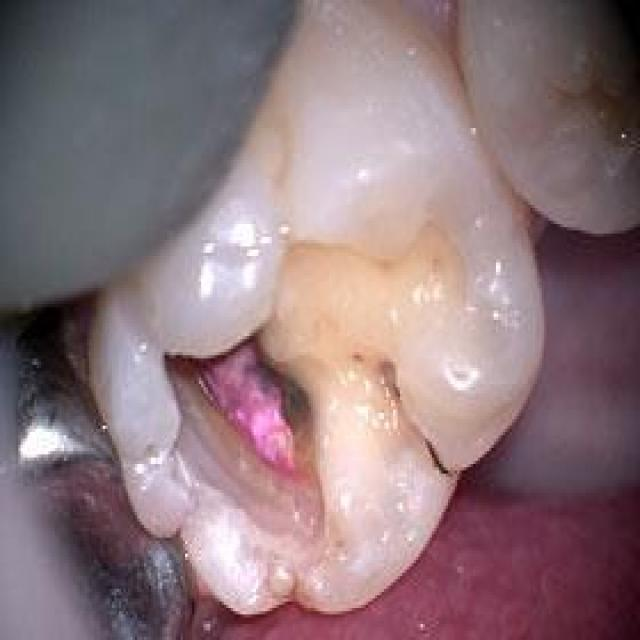Caries: (254, 362, 311, 435), (425, 442, 448, 474)
Cavity: (162, 224, 471, 550)
Tooth: (82, 0, 546, 614)
